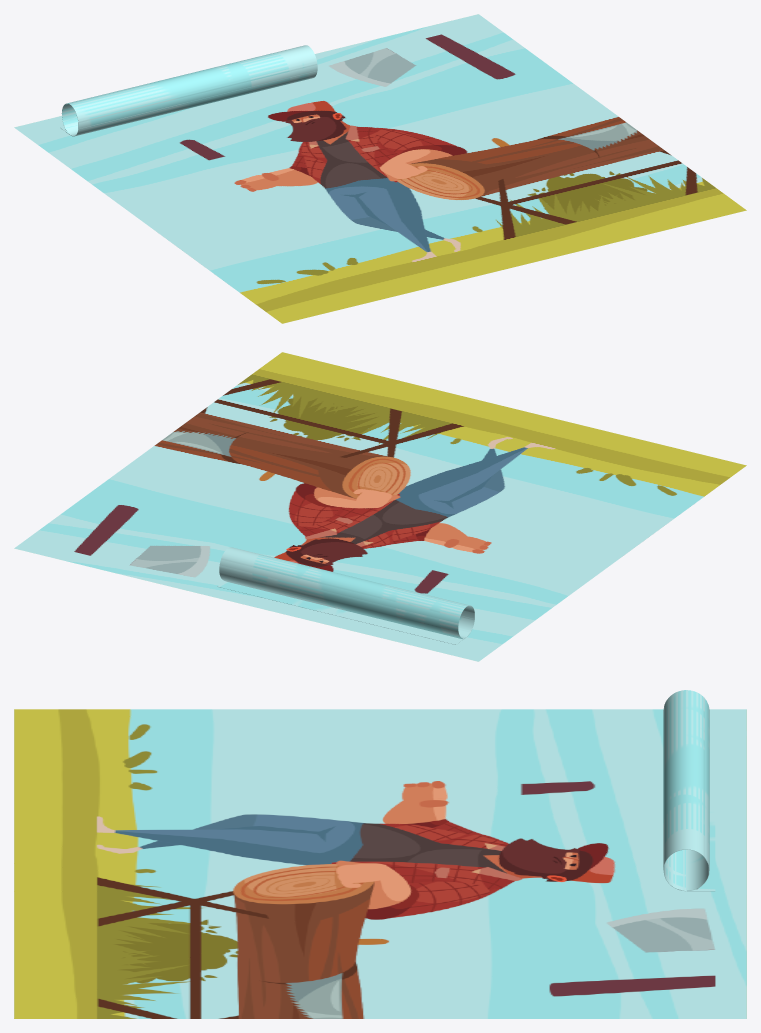
File: Level 57 unroll curtain to help sleep.fbx
The picture shows the model from 3 angles, top to bottom: view 1: azimuth 30°, elevation 25°; view 2: azimuth 150°, elevation 25°; view 3: azimuth 270°, elevation 25°; orthographic projection. The views are drawn at different scales.
Parts seen in each view (by area): view 1: Mesh, Blend; view 2: Mesh, Blend; view 3: Mesh, Blend.
Boxes of the visible parts, bbox=[...] form: Mesh: bbox=[14, 14, 746, 323]; Blend: bbox=[60, 45, 317, 136]; Mesh: bbox=[14, 352, 746, 661]; Blend: bbox=[217, 547, 474, 644]; Mesh: bbox=[14, 709, 746, 1018]; Blend: bbox=[663, 690, 715, 891].
Bounding box in the file's own units: 2400 × 198 × 2400.
